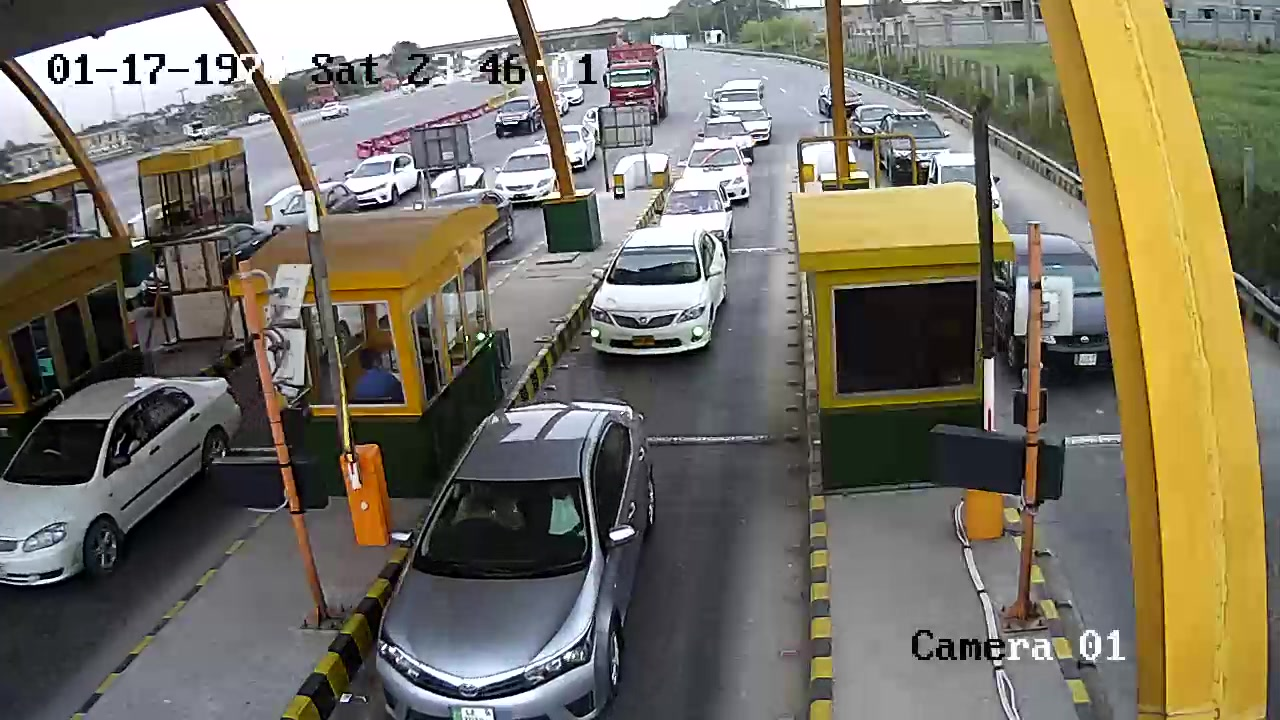F1: (583, 222, 738, 365)
